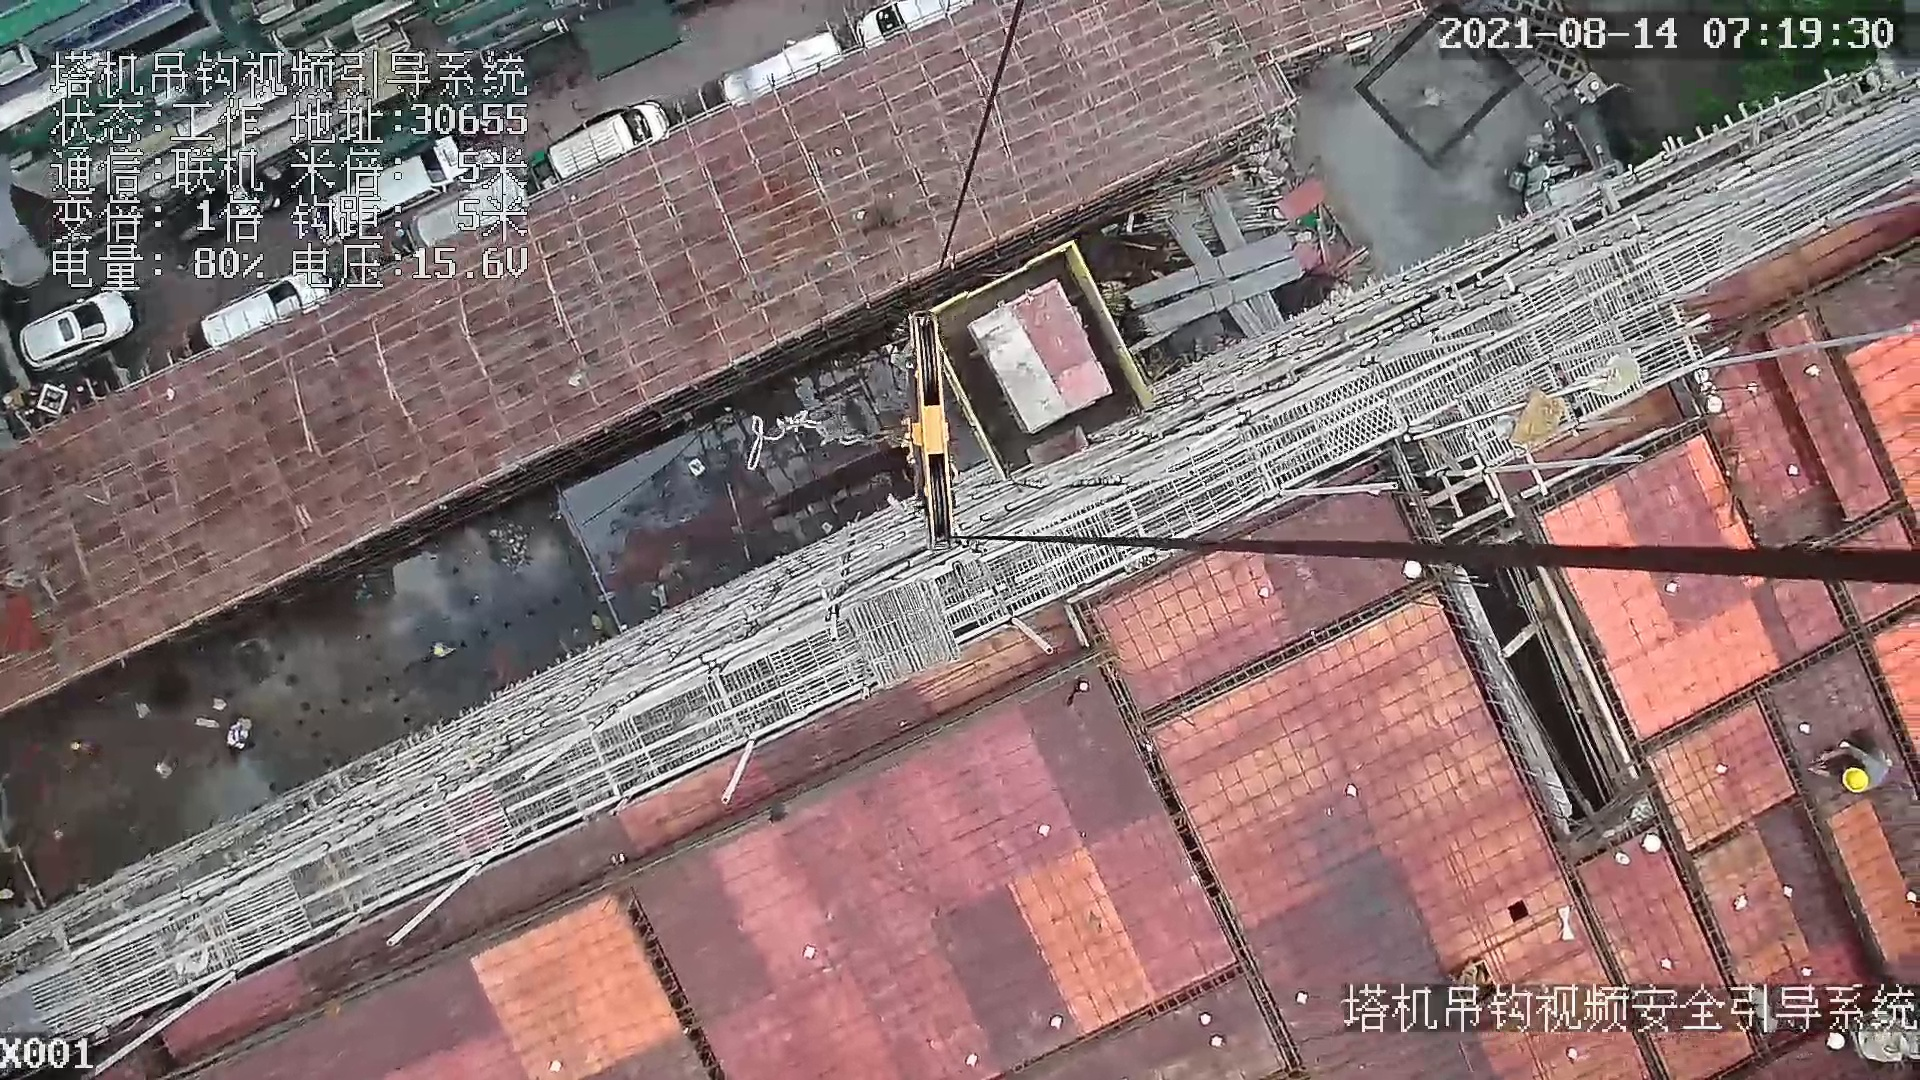helmet: (1840, 767, 1869, 797)
hook: (890, 308, 967, 551)
person: (1819, 728, 1892, 789)
